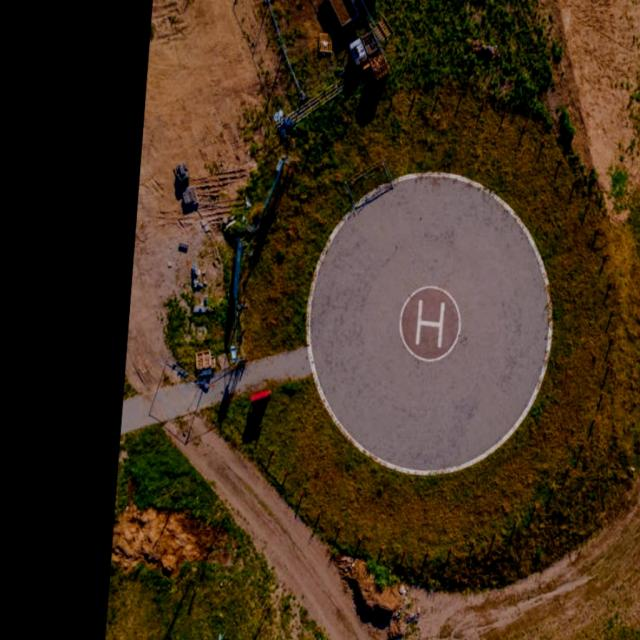helipad: (395, 283, 462, 363)
